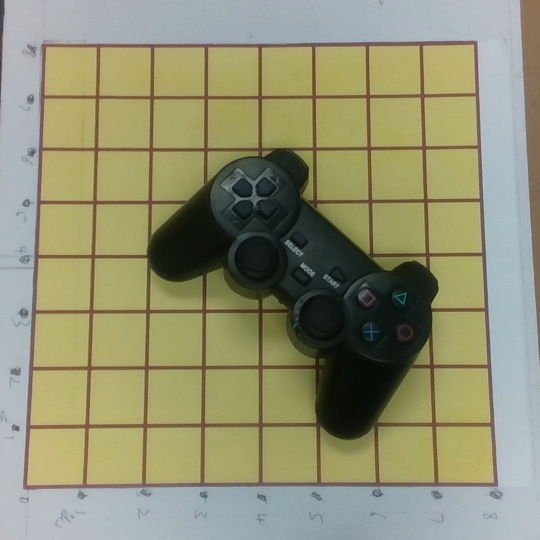remote: (150, 148, 439, 439)
